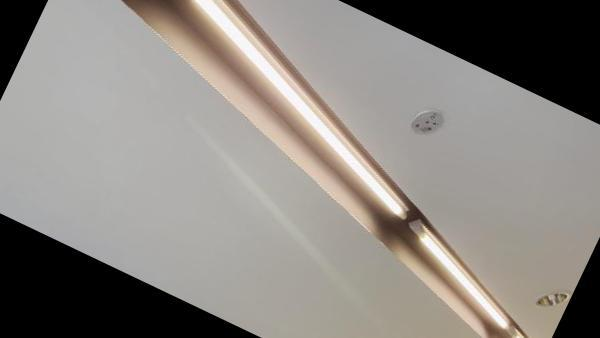light_on: (97, 0, 476, 232), (385, 191, 550, 338), (494, 320, 550, 338)
